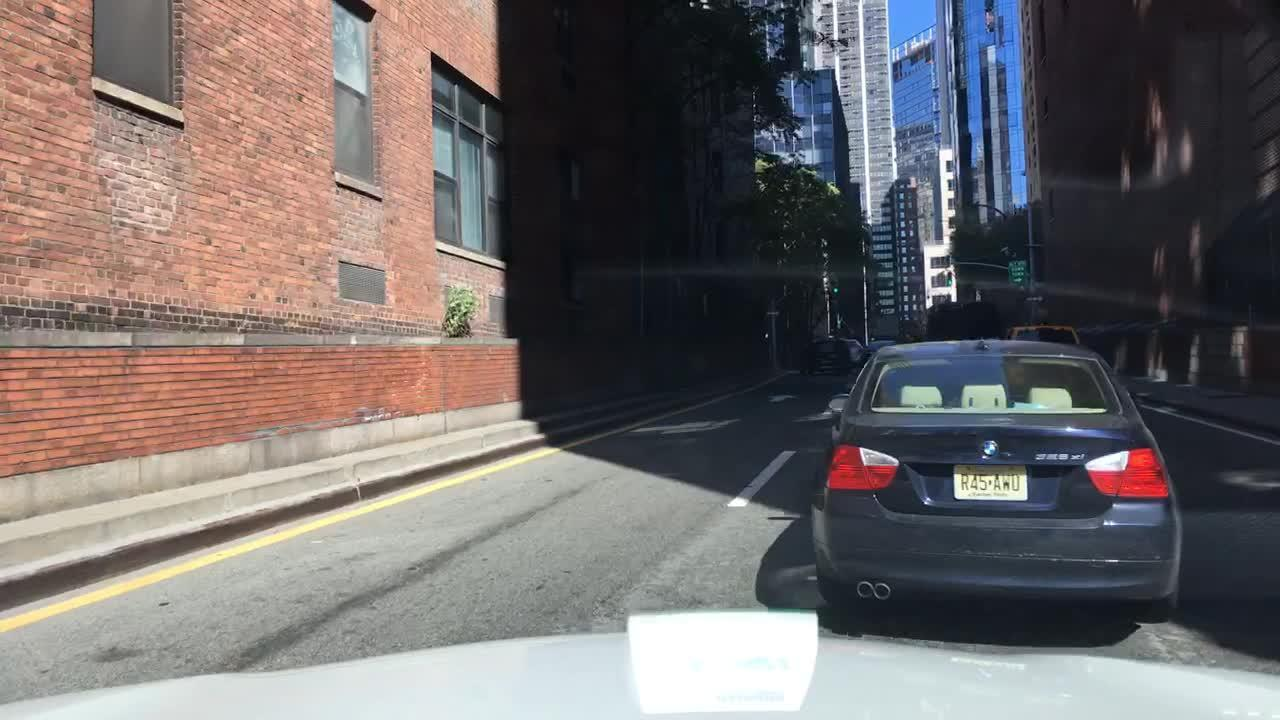bmw: (970, 429, 1010, 462)
